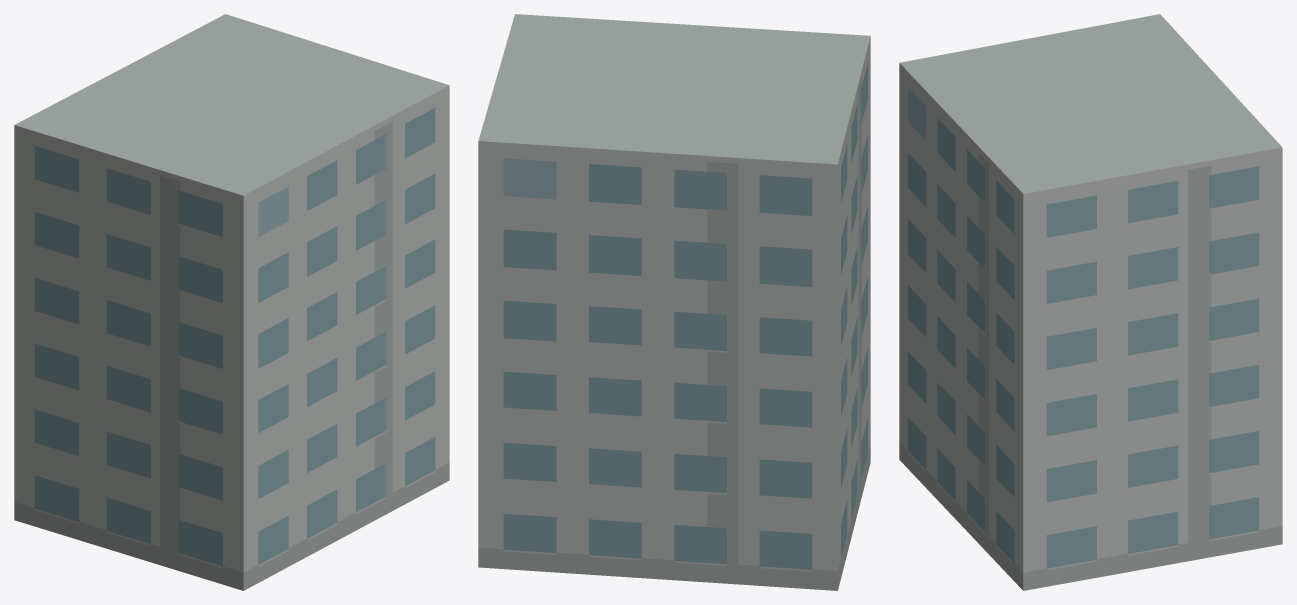
The model's file is survey-upis-32909439.glb.
3 views of the same model, side by side, from view 1: azimuth 30°, elevation 25°; view 2: azimuth 150°, elevation 25°; view 3: azimuth 270°, elevation 25° (orthographic). The views are drawn at different scales.
Parts seen in each view (by area): view 1: survey-upis-32909439.tmp; view 2: survey-upis-32909439.tmp; view 3: survey-upis-32909439.tmp.
Boxes of the visible parts, bbox=[...] form: survey-upis-32909439.tmp: bbox=[14, 14, 449, 590]; survey-upis-32909439.tmp: bbox=[478, 14, 870, 590]; survey-upis-32909439.tmp: bbox=[899, 14, 1282, 590].
Size of the model in its own units: 17.52 by 18 by 15.76.
